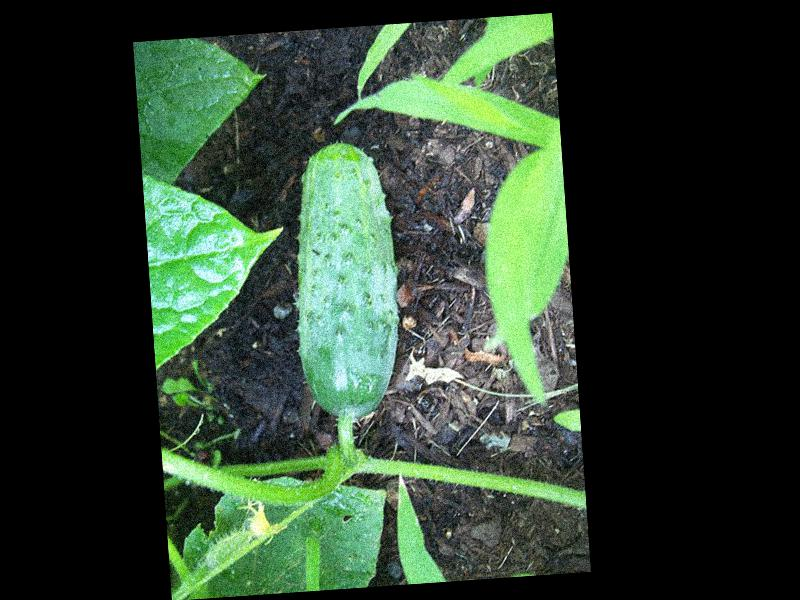Cucumber: (285, 136, 407, 421)
